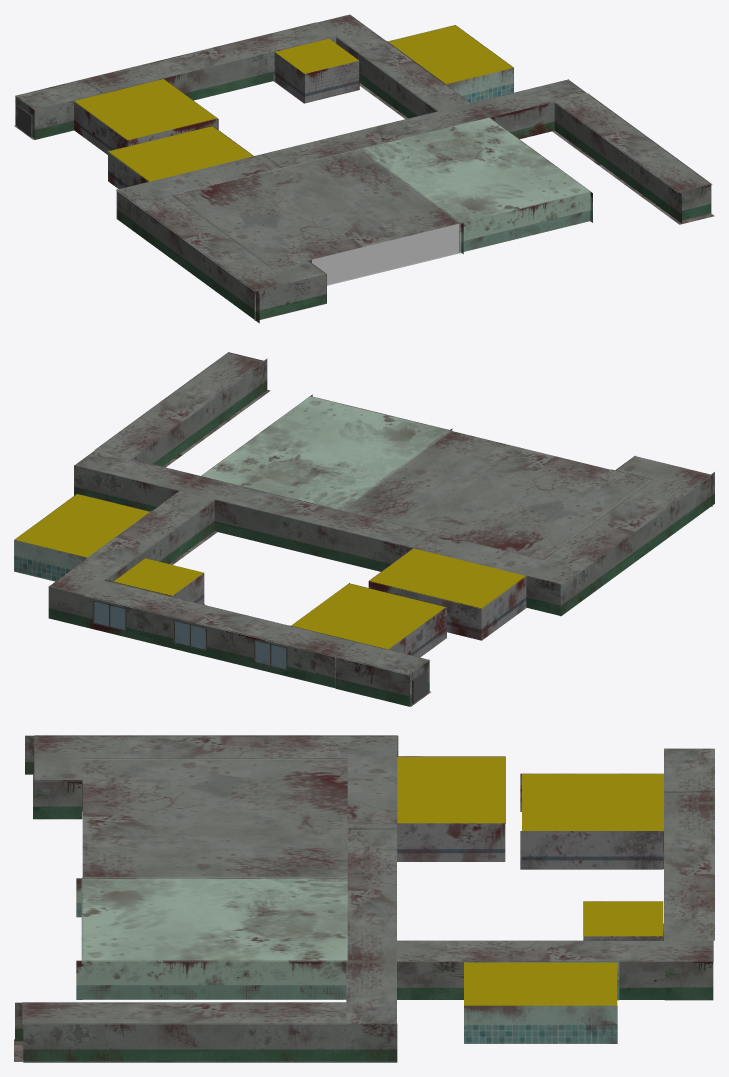
The model's file is 1S_All_08.fbx.
3 renders of one model, top to bottom at view 1: azimuth 30°, elevation 25°; view 2: azimuth 150°, elevation 25°; view 3: azimuth 270°, elevation 25°, orthographic. The views are drawn at different scales.
Visible parts, largest first — view 1: 1S_HallwayCeiling (×5), 1S_HallwayWall (×8), 1S_Bigroom2Ceiling, 1S_Bigroom1Ceiling, 1S_StartRoomCeiling, 1S_EXRoomCeiling, 1S_Bigroom2Wall, 1S_ToiletCeiling, 1S_Bigroom1Wall, 1S_WarehouseWall (×2), 1S_StartRoomWall (×2), 1S_WarehouseCeiling (+3 smaller); view 2: 1S_HallwayCeiling (×5), 1S_HallwayWall (×8), 1S_Bigroom2Ceiling, 1S_Bigroom1Ceiling, 1S_StartRoomCeiling, 1S_EXRoomCeiling, 1S_ToiletCeiling, 1S_EXRoomWall (×2), 1S_HallwayWall_Window001, 1S_WarehouseCeiling, 1S_ToiletWall, 1S_StartRoomWall (+1 smaller); view 3: 1S_HallwayCeiling (×5), 1S_Bigroom2Ceiling, 1S_HallwayWall (×6), 1S_Bigroom1Ceiling, 1S_Bigroom1Wall, 1S_StartRoomCeiling, 1S_EXRoomCeiling, 1S_ToiletCeiling, 1S_ToiletWall, 1S_StartRoomWall, 1S_EXRoomWall, 1S_WarehouseCeiling (+1 smaller).
Boxes of the visible parts, x1,y1,x2,y2 form: 1S_HallwayCeiling (×5): (15,15,712,291); 1S_HallwayWall (×8): (34,36,710,323); 1S_Bigroom2Ceiling: (172,149,459,268); 1S_Bigroom1Ceiling: (359,117,590,223); 1S_StartRoomCeiling: (74,79,216,140); 1S_EXRoomCeiling: (107,126,253,181); 1S_Bigroom2Wall: (285,223,460,285); 1S_ToiletCeiling: (388,25,513,84); 1S_Bigroom1Wall: (460,191,590,252); 1S_WarehouseWall (×2): (274,52,358,102); 1S_StartRoomWall (×2): (74,101,217,154); 1S_WarehouseCeiling: (275,38,358,73); 1S_HallwayCeiling (×5): (49,352,712,675); 1S_HallwayWall (×8): (48,358,714,706); 1S_Bigroom2Ceiling: (342,431,651,559); 1S_Bigroom1Ceiling: (201,396,450,510); 1S_StartRoomCeiling: (291,583,445,649); 1S_EXRoomCeiling: (369,548,526,608); 1S_ToiletCeiling: (15,494,149,557); 1S_EXRoomWall (×2): (368,576,526,640); 1S_HallwayWall_Window001: (94,602,286,669); 1S_WarehouseCeiling: (113,558,203,596); 1S_ToiletWall: (14,540,86,581); 1S_StartRoomWall: (388,606,446,657); 1S_HallwayCeiling (×5): (22,735,714,1024); 1S_Bigroom2Ceiling: (82,758,347,878); 1S_HallwayWall (×6): (15,735,713,1062); 1S_Bigroom1Ceiling: (81,878,347,961); 1S_Bigroom1Wall: (76,960,347,999); 1S_StartRoomCeiling: (522,773,663,831); 1S_EXRoomCeiling: (397,756,505,823); 1S_ToiletCeiling: (464,962,617,1005); 1S_ToiletWall: (464,1005,617,1043); 1S_StartRoomWall: (520,831,663,869); 1S_EXRoomWall: (397,823,505,861); 1S_WarehouseCeiling: (584,901,663,936).
Size of the model in its own units: 987 by 64.21 by 1012.
